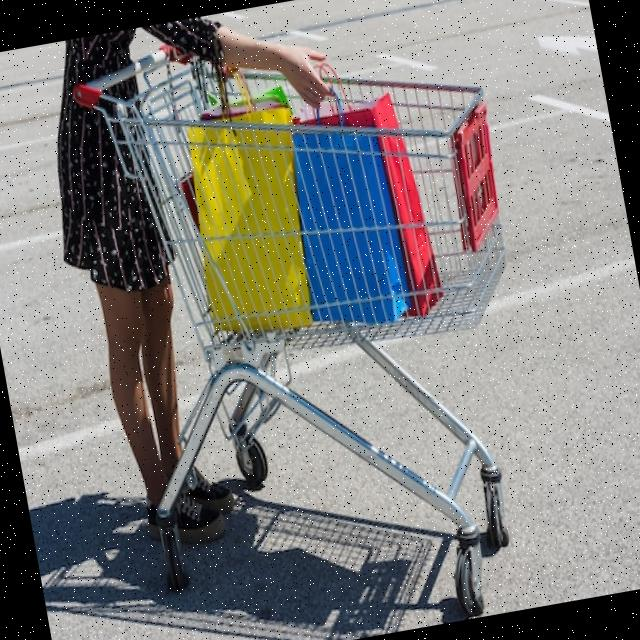Person: (27, 0, 407, 561)
